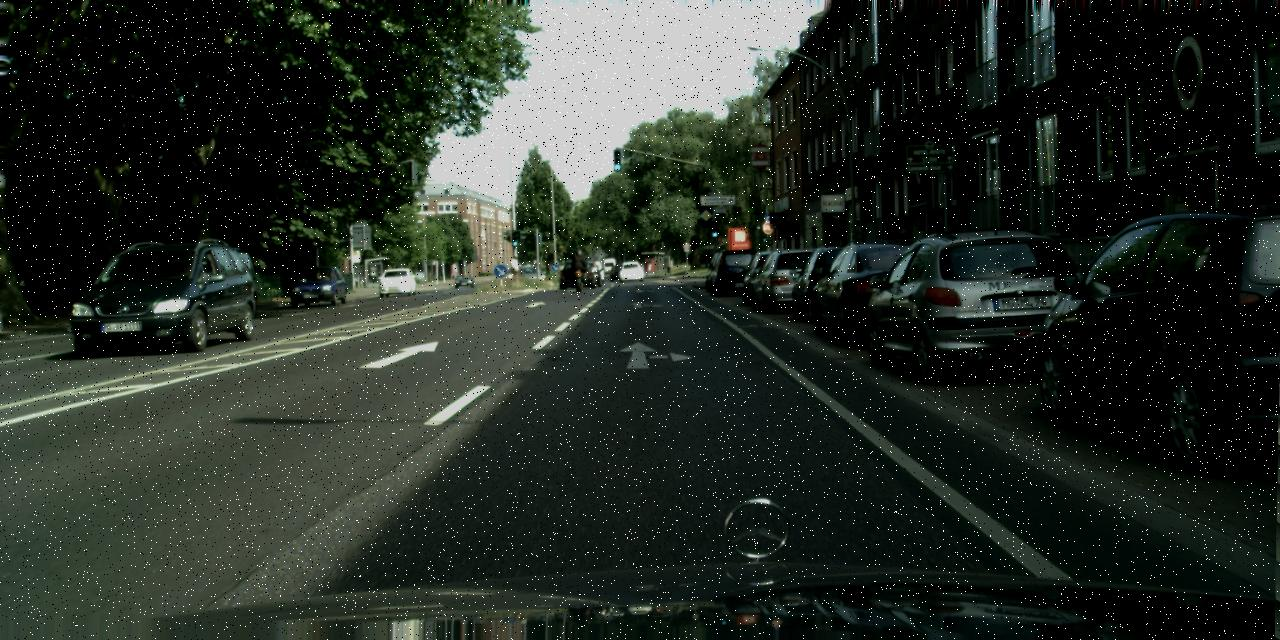ped: (888, 229, 916, 299), (572, 250, 584, 282)
